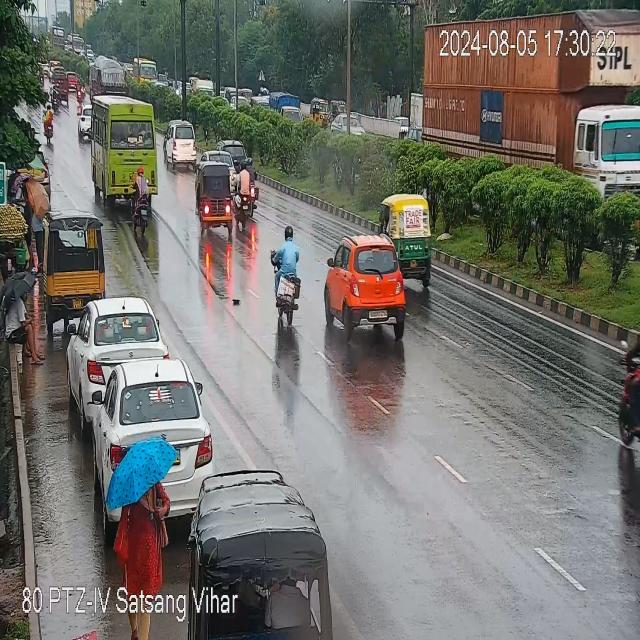2-wheelers: (611, 308, 640, 474), (269, 226, 311, 337), (129, 159, 155, 242), (234, 160, 249, 225), (248, 148, 260, 220), (39, 103, 59, 145), (71, 83, 85, 108)
auto: (195, 475, 332, 583), (43, 190, 103, 330), (189, 154, 242, 250), (383, 190, 444, 270), (311, 88, 331, 125)
bus: (90, 94, 164, 213), (134, 47, 159, 89)
car: (94, 360, 211, 522), (65, 292, 171, 419), (324, 210, 406, 352), (164, 116, 196, 173), (329, 103, 365, 133), (219, 134, 250, 162), (78, 102, 95, 150)
pedestrian: (106, 440, 179, 586), (8, 264, 45, 365), (27, 186, 49, 270), (14, 173, 26, 231)
truck: (421, 17, 640, 142), (272, 83, 302, 133)
